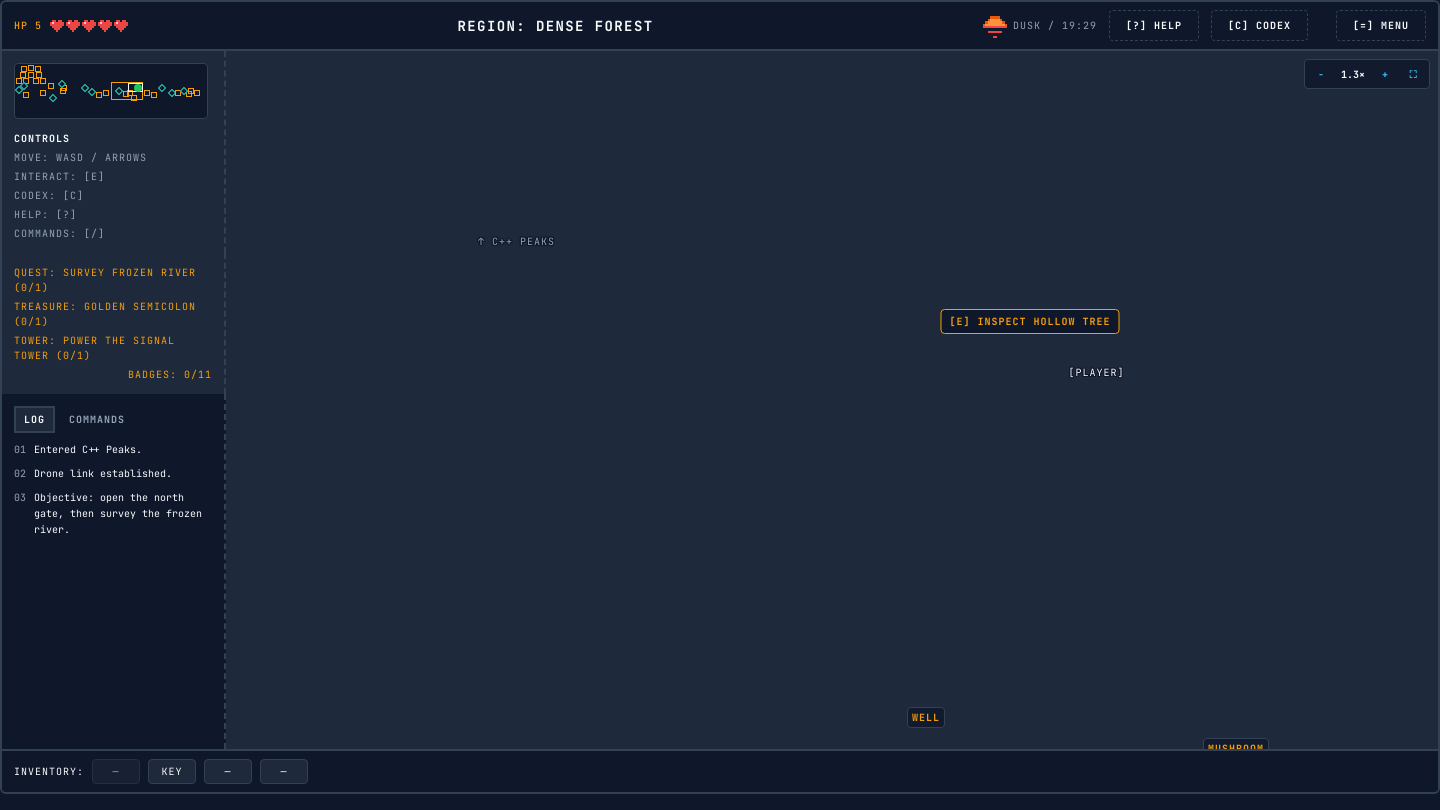
Scenario: Overworld map › looting the supply cache logs, fills the inventory and empties the cache
Click the button named "[X] Hollow Tree" at coordinates (1030, 334), box [978,266,1082,402]
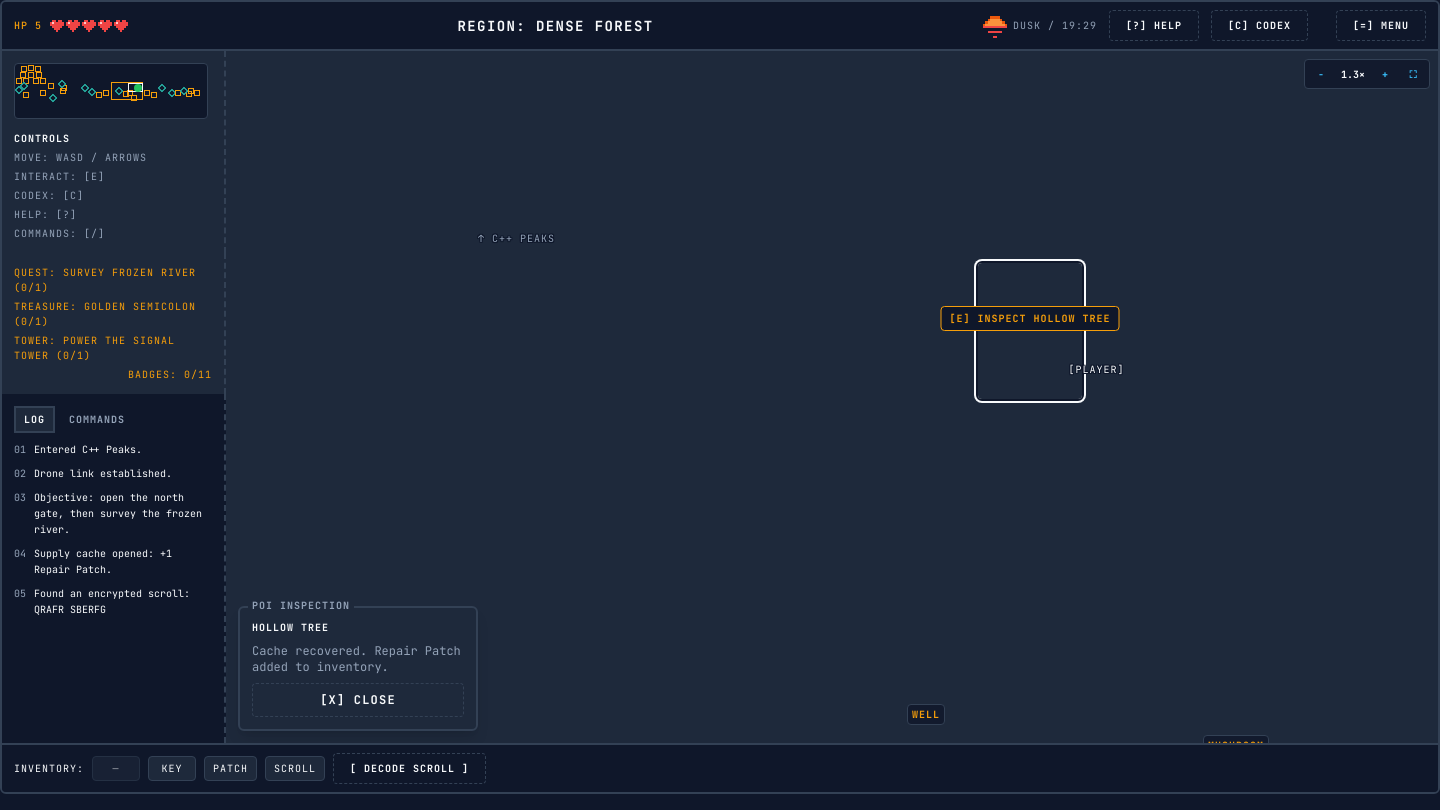
Expected: the text "Supply cache opened: +1 Repair Patch." is shown, [34,547,172,576]
Expected: the text "Patch" is shown, [204,756,257,781]
